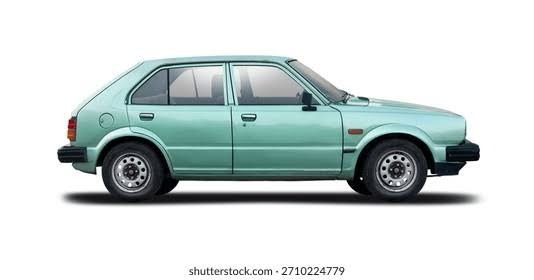car: (55, 51, 484, 202), (50, 50, 484, 199)
